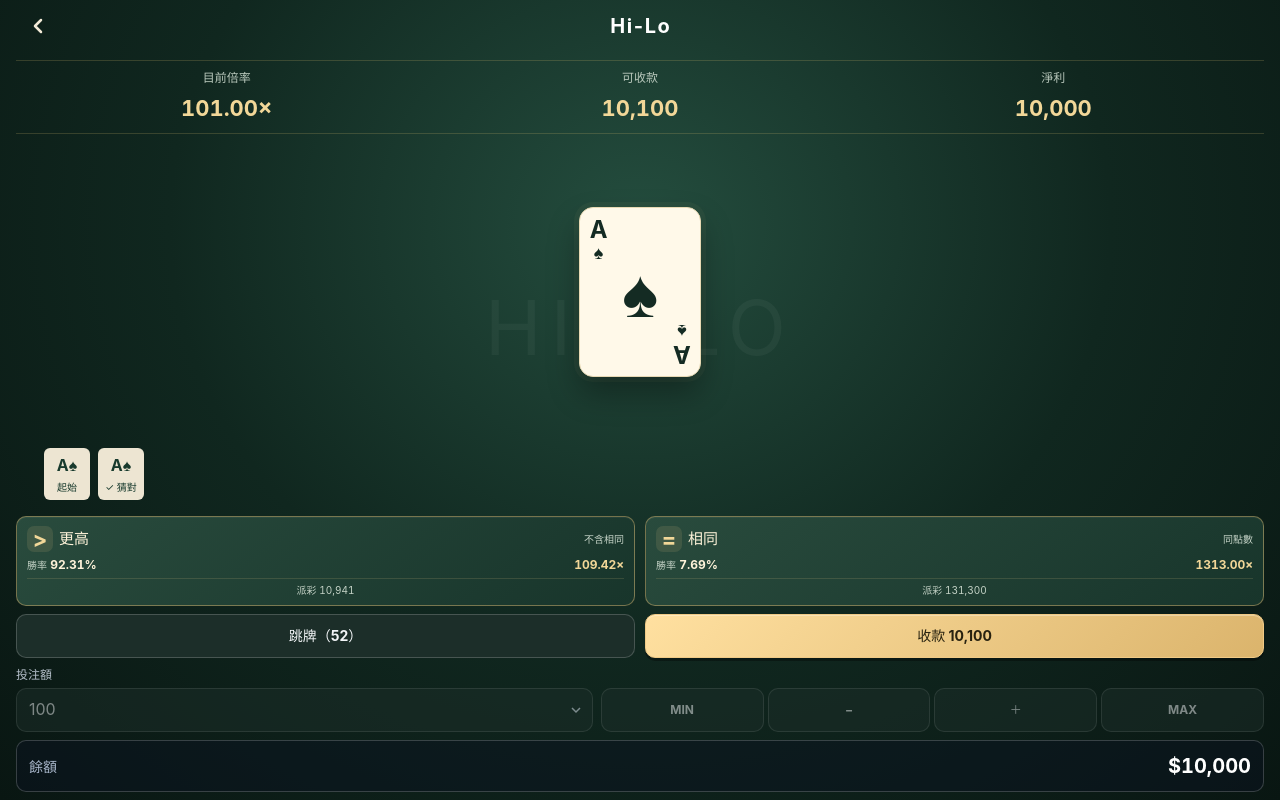
Scenario: Hi-Lo win celebration › does not celebrate a high multiplier lost round
Click the button with aria-label "相同" at (703, 538), box [645,516,1264,606]
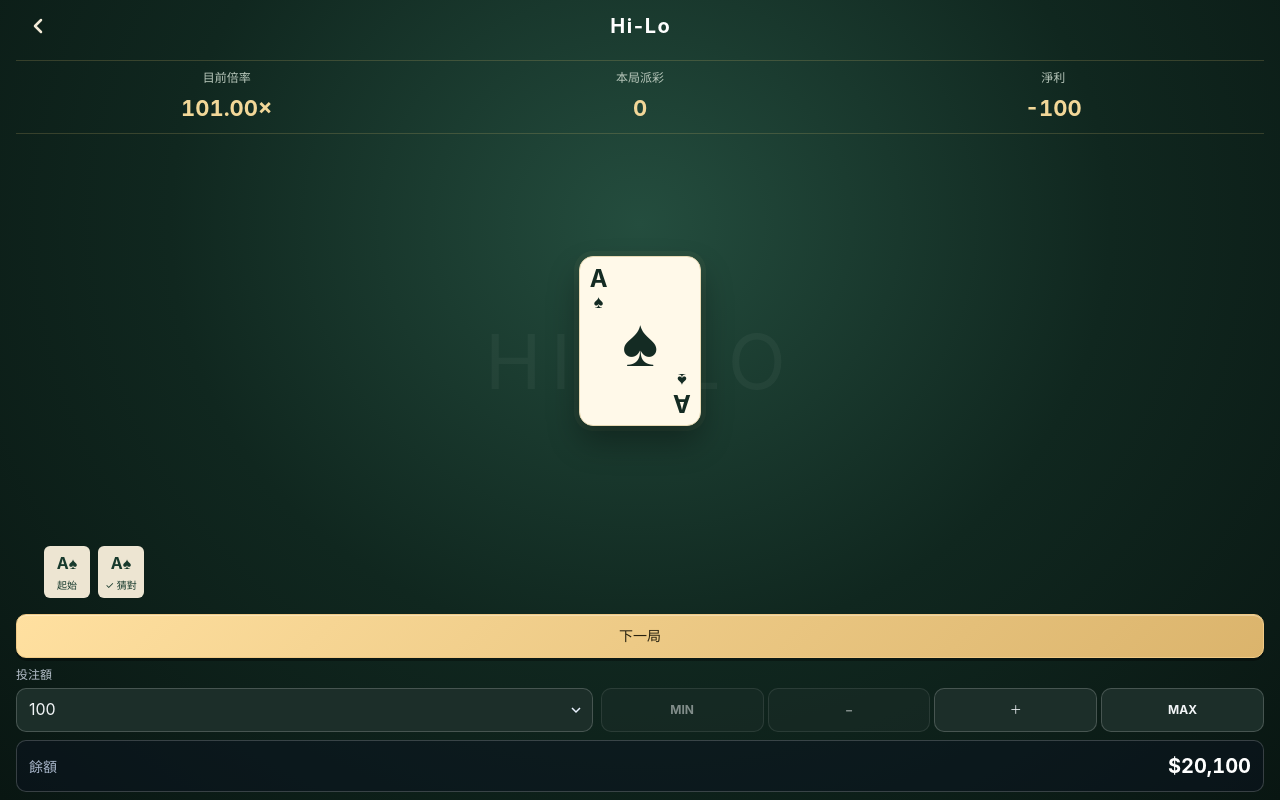
Now the button with class "next-round" is shown, box [16,614,1264,658]
